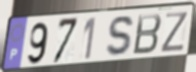1: (81, 17, 97, 63)
7: (51, 16, 80, 67)
9: (26, 21, 51, 67)
B: (132, 12, 163, 56)
S: (104, 14, 136, 59)
Z: (159, 11, 190, 55)
